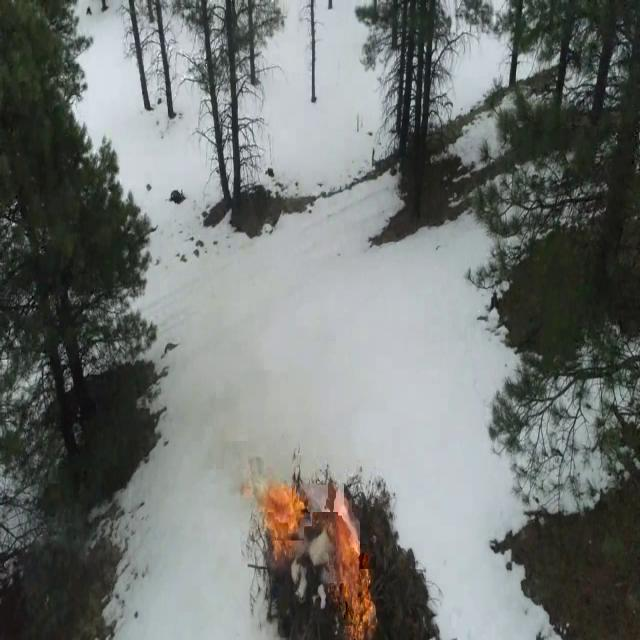fire: (329, 519, 376, 640), (258, 480, 301, 563)
